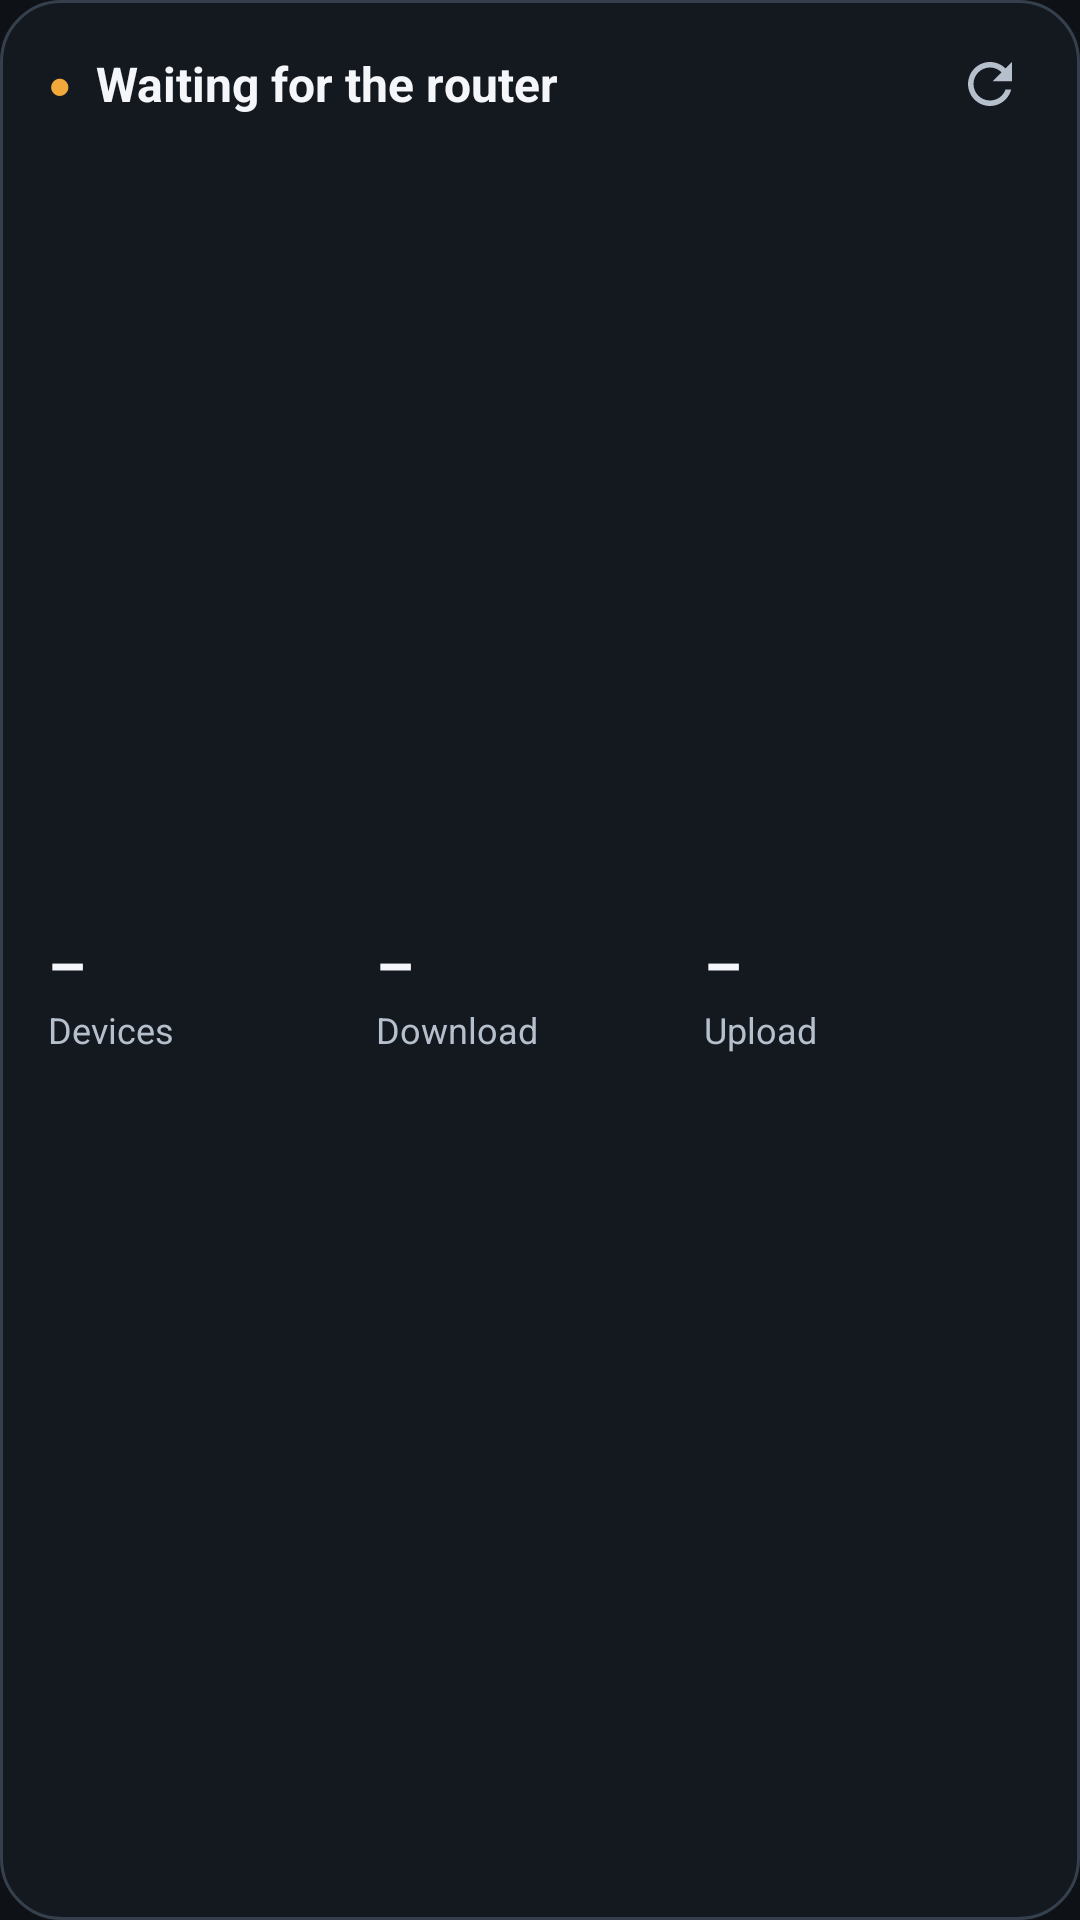

Screen size 1080 × 1920. Icon name, then its box in pixels as (x1, y1, x2, y2):
Refresh: (968, 62, 1012, 106)
